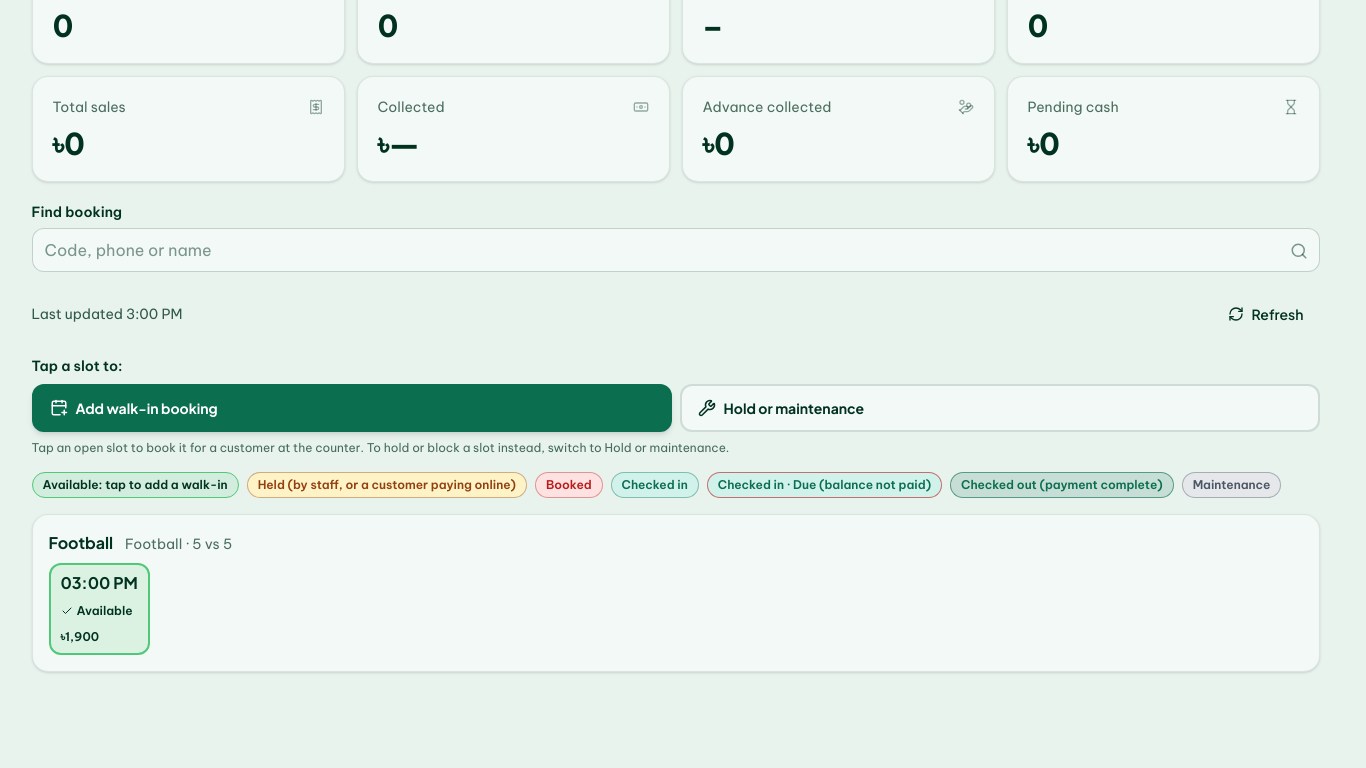
StaffDesk mode › tapping an open slot in Book mode opens the walk-in form
(page scrolled)
Click the button with aria-label "03:00 PM to 04:30 PM".
click(99, 609)  # box [48,563,150,655]
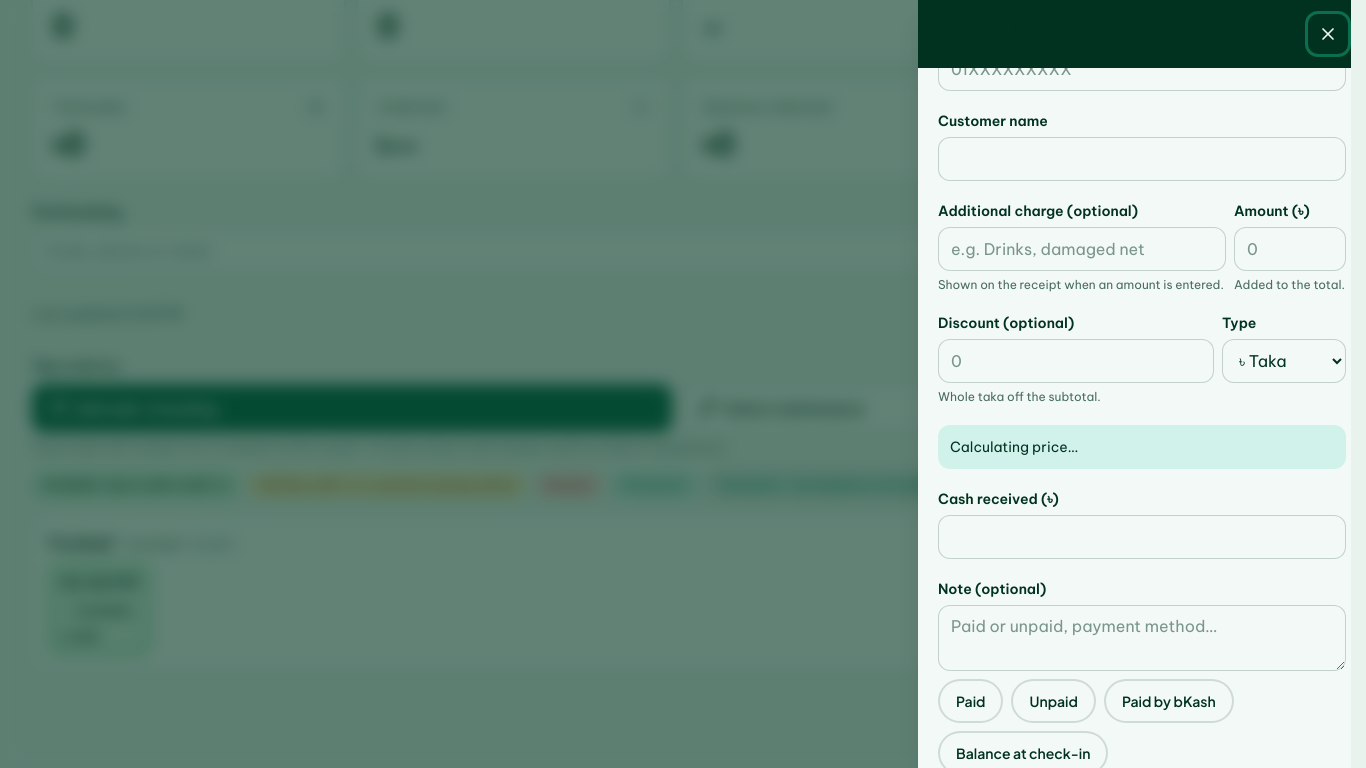
Expected: the form named "Walk-in booking" is shown, [938,68,1346,767]
